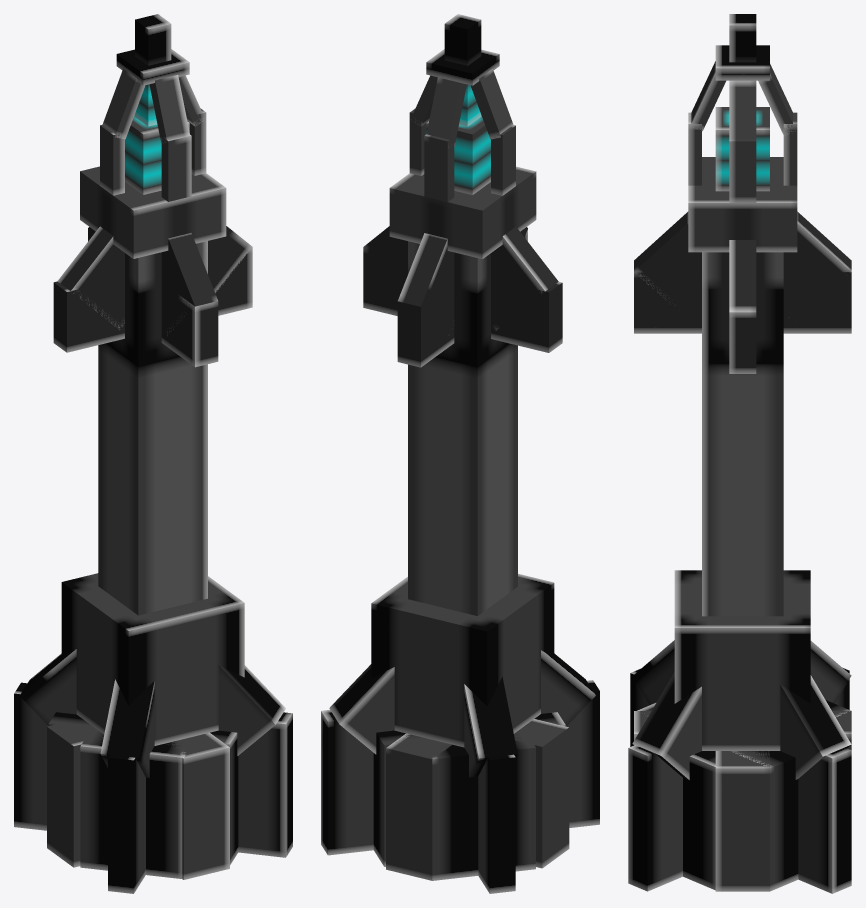
The model's file is missile_antimatter.obj.
3 views of the same model, side by side, from view 1: azimuth 30°, elevation 25°; view 2: azimuth 150°, elevation 25°; view 3: azimuth 270°, elevation 25° (orthographic).
Parts seen in each view (by area): view 1: Shape36.002, Shape4a.002, Shape3.002, Shape1.002, Shape5a.002, Shape12.002, Shape13.002, Shape11a.002, Shape4.002, Shape2e.002, Shape11b.002, Shape14.002 (+13 smaller); view 2: Shape36.002, Shape4a.002, Shape4.002, Shape2.002, Shape5a.002, Shape11a.002, Shape12.002, Shape14.002, Shape2e.002, Shape3.002, Shape10a.002, Shape11b.002 (+13 smaller); view 3: Shape36.002, Shape4a.002, Shape11b.002, Shape2e.002, Shape4.002, Shape3.002, Shape5a.002, Shape14.002, Shape13.002, Shape2.002, Shape1.002, Shape8.002 (+13 smaller).
Boxes of the visible parts, <box> form: Shape36.002: <box>98,241,207,615</box>; Shape4a.002: <box>61,573,244,745</box>; Shape3.002: <box>14,682,292,857</box>; Shape1.002: <box>80,726,185,878</box>; Shape5a.002: <box>80,166,226,258</box>; Shape12.002: <box>166,732,229,879</box>; Shape13.002: <box>19,649,285,755</box>; Shape11a.002: <box>53,247,252,352</box>; Shape4.002: <box>108,755,145,893</box>; Shape2e.002: <box>47,724,90,867</box>; Shape11b.002: <box>88,228,218,367</box>; Shape14.002: <box>100,679,154,777</box>; Shape36.002: <box>408,241,517,615</box>; Shape4a.002: <box>371,573,554,747</box>; Shape4.002: <box>321,680,599,855</box>; Shape2.002: <box>432,728,535,880</box>; Shape5a.002: <box>389,166,536,259</box>; Shape11a.002: <box>363,247,562,352</box>; Shape12.002: <box>386,733,451,880</box>; Shape14.002: <box>329,650,595,754</box>; Shape2e.002: <box>514,719,569,868</box>; Shape3.002: <box>478,754,515,893</box>; Shape10a.002: <box>491,227,558,330</box>; Shape11b.002: <box>397,229,527,367</box>; Shape36.002: <box>702,252,783,616</box>; Shape4a.002: <box>674,570,810,750</box>; Shape11b.002: <box>634,272,851,333</box>; Shape2e.002: <box>715,751,769,891</box>; Shape4.002: <box>630,668,851,893</box>; Shape3.002: <box>628,668,849,891</box>; Shape5a.002: <box>688,157,797,252</box>; Shape14.002: <box>632,640,851,779</box>; Shape13.002: <box>632,641,851,780</box>; Shape2.002: <box>683,700,851,890</box>; Shape1.002: <box>637,703,798,891</box>; Shape8.002: <box>715,107,769,191</box>.
Bounding box in the file's own units: 1.04 × 4.19 × 1.03.
